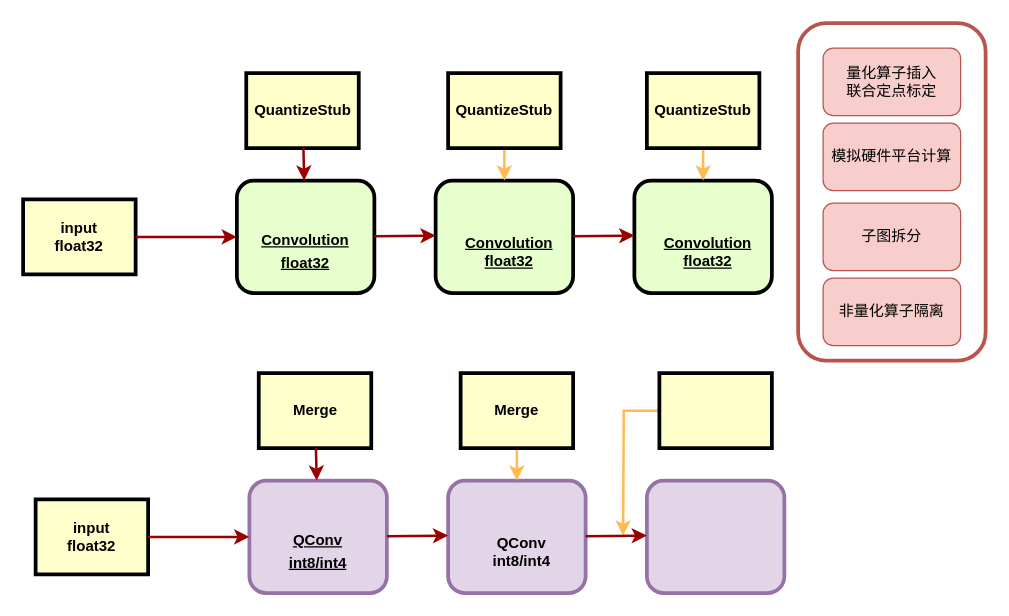
The diagram is 1009 pixels wide and 616 high, and some of its shapes have lost their labels. The shapes that lost their labels are listed below. From the top down, each one's centre as x and y in pixels, then its label:
At [715,410]: "Dequantize".
At [715,536]: "ConvTranspose float32".
